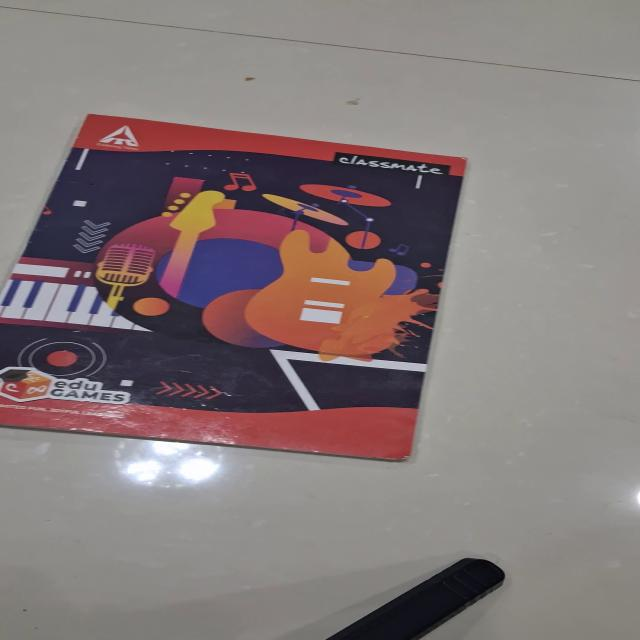paper: (1, 113, 468, 461)
